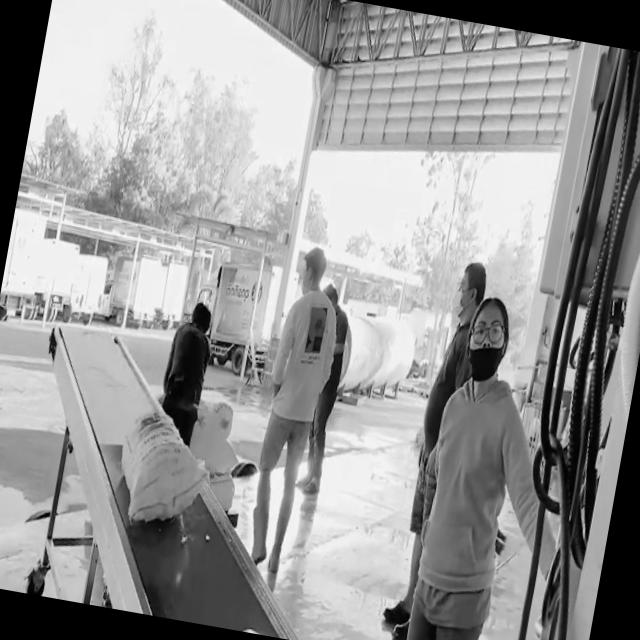ice-bag: (107, 396, 212, 541)
